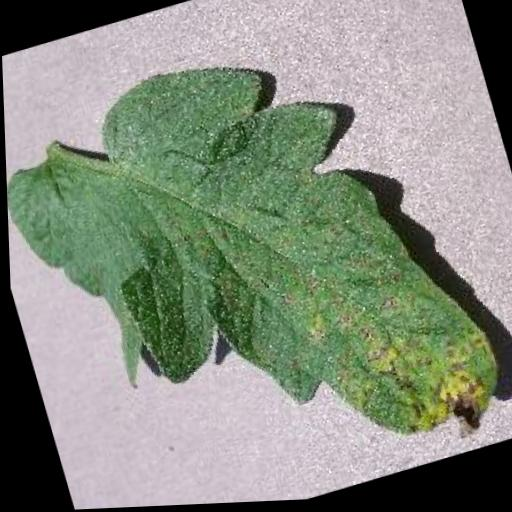Septoria: (1, 2, 510, 512)
